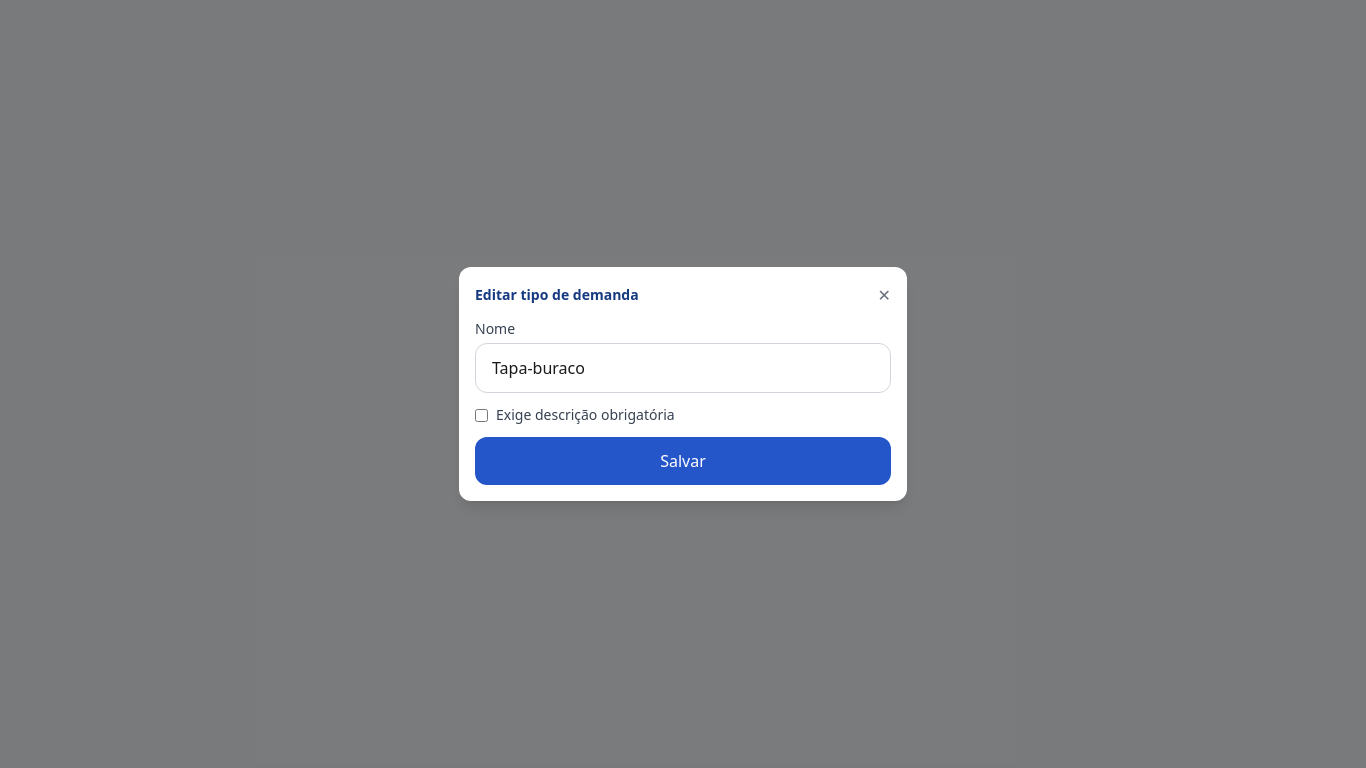
ModalTipoDemanda (editar) › mostra a mensagem de erro da API quando salvar falha
The width and height of the screenshot is (1366, 768).
Click the button "Salvar". click: (683, 461)
box: x1=475 y1=437 x2=891 y2=485
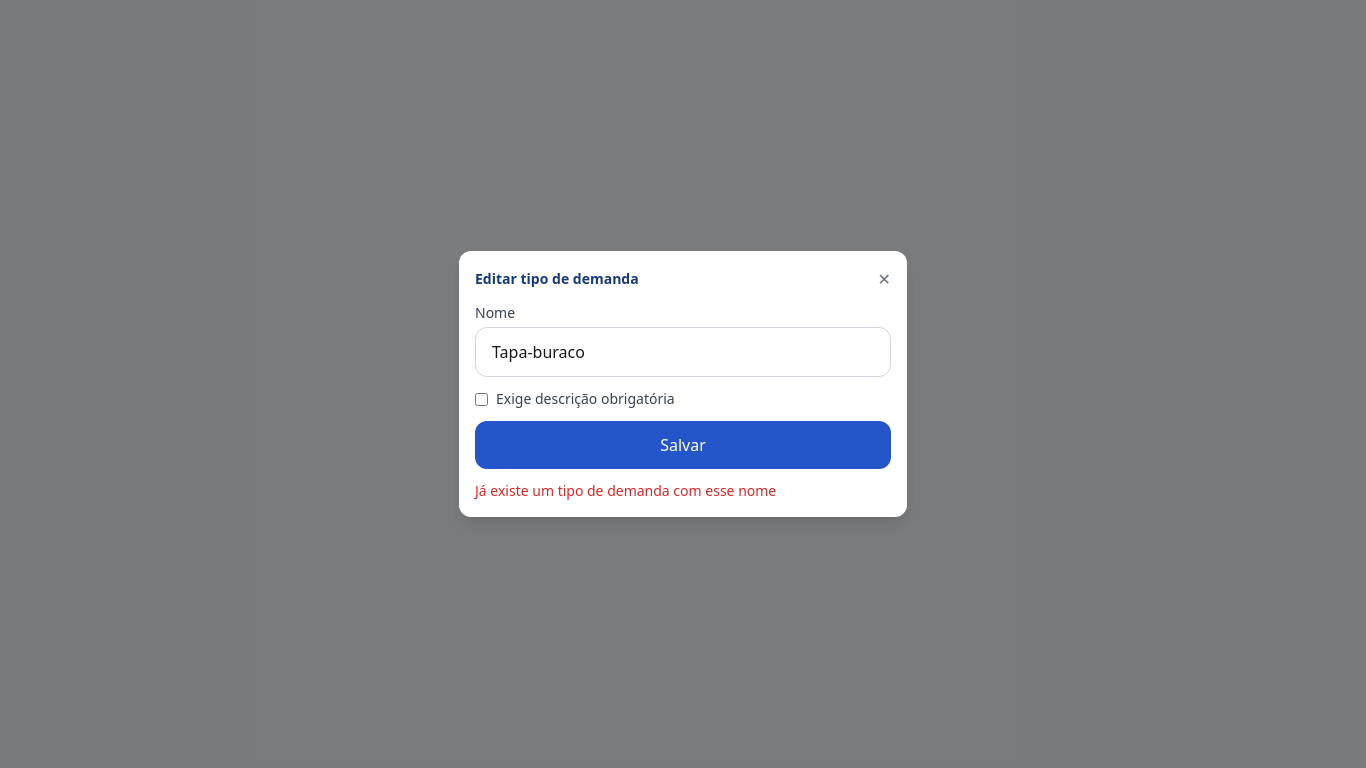
Result: the text "Já existe um tipo de demanda com esse nome" is shown at x1=475 y1=481 x2=776 y2=500
